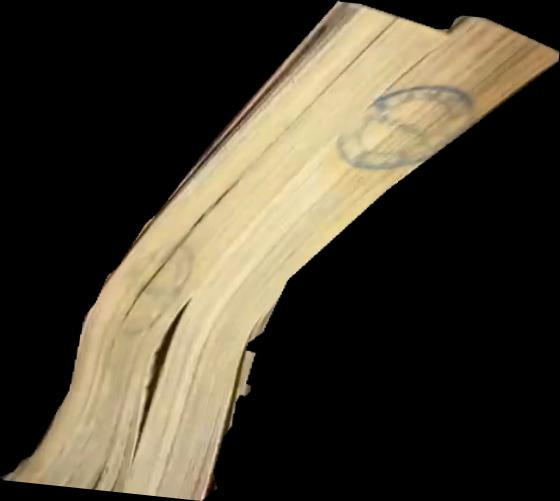backward: (1, 1, 560, 501)
